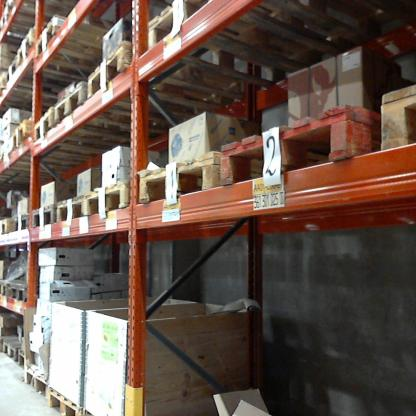pallet: (138, 6, 377, 85), (221, 92, 379, 196), (85, 35, 212, 130), (29, 14, 147, 92), (57, 76, 175, 152), (137, 143, 234, 219), (33, 100, 113, 164), (374, 74, 415, 161), (1, 4, 86, 40), (83, 174, 138, 220), (41, 372, 83, 415), (9, 110, 40, 157), (18, 20, 46, 72), (0, 334, 32, 372), (31, 194, 59, 233), (56, 189, 85, 226), (25, 366, 52, 404), (7, 278, 33, 305), (6, 48, 19, 93), (14, 208, 31, 240), (17, 349, 39, 367), (0, 274, 13, 302), (0, 215, 14, 240)
